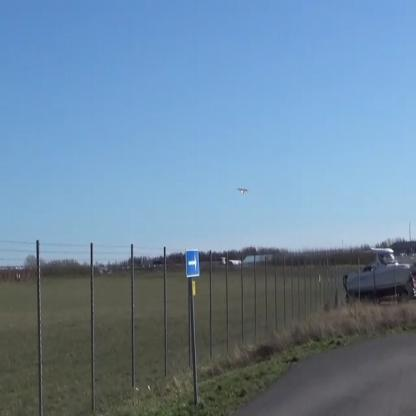CIV_Plane: (236, 184, 250, 196)
